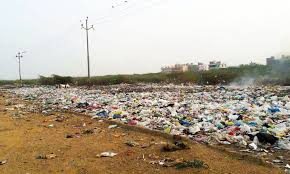garbage: (28, 84, 287, 129), (106, 85, 290, 146), (130, 82, 290, 146)
